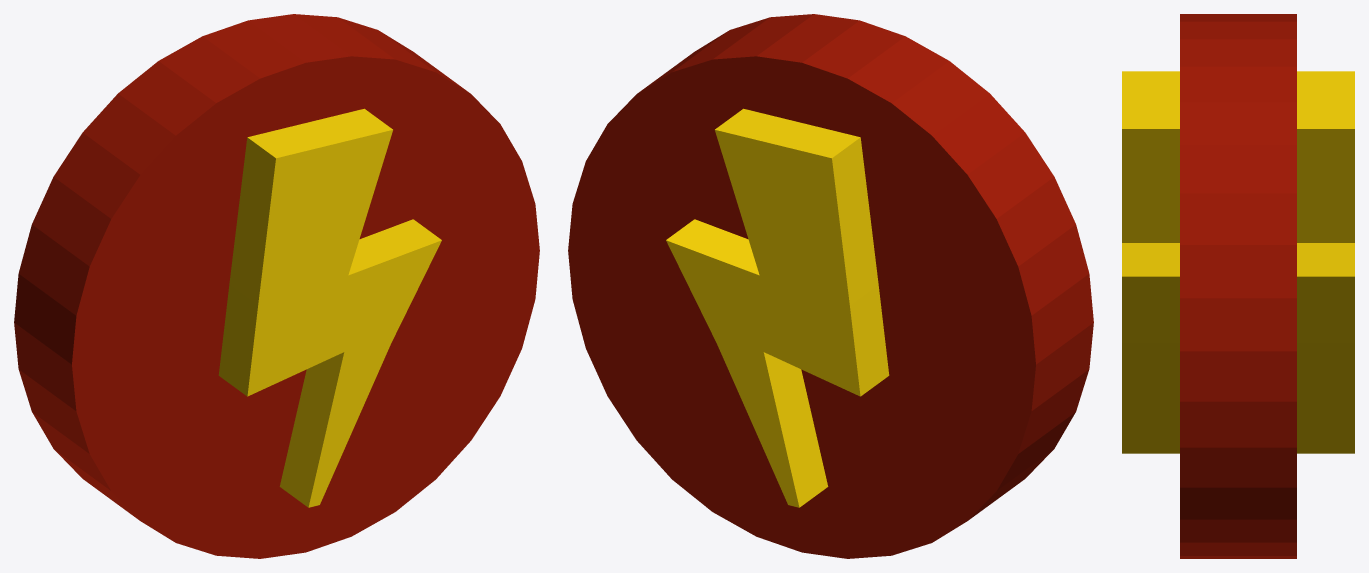
File: flash.glb
3 renders of one model, left to right at view 1: azimuth 30°, elevation 25°; view 2: azimuth 150°, elevation 25°; view 3: azimuth 270°, elevation 25°, orthographic.
Visible parts, largest first — view 1: Cylinder, Cube; view 2: Cylinder, Cube; view 3: Cylinder, Cube.
Part boxes in pixels (left/top/right/bottom): Cylinder: left=14, top=14, right=539, bottom=558; Cube: left=218, top=108, right=441, bottom=507; Cylinder: left=568, top=14, right=1093, bottom=558; Cube: left=666, top=108, right=889, bottom=507; Cylinder: left=1180, top=14, right=1296, bottom=558; Cube: left=1122, top=71, right=1354, bottom=453.
Bounding box in the file's own units: 9.53 × 9.53 × 4.07.
